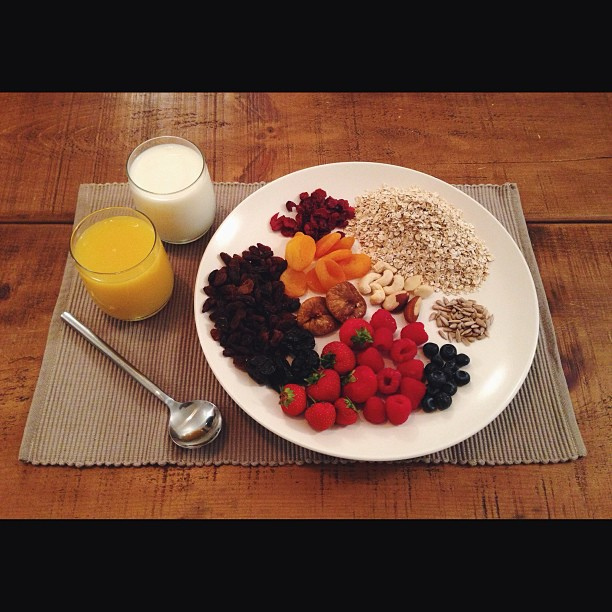glass of milk: (127, 138, 214, 243)
